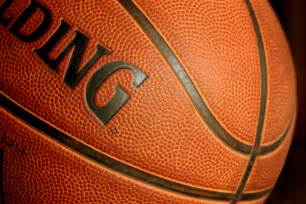basketball: (1, 1, 298, 204)
